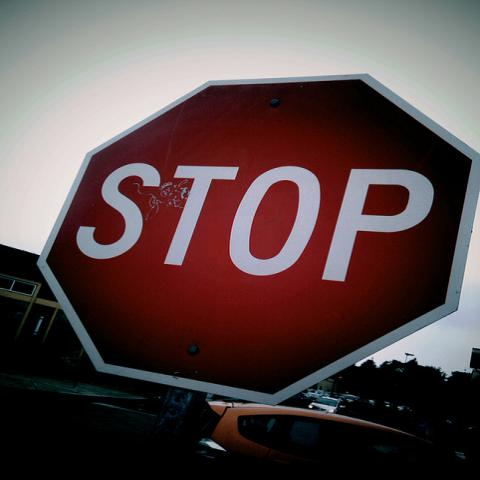car: (206, 402, 478, 478), (306, 396, 340, 413), (280, 394, 314, 407), (344, 396, 356, 404)
